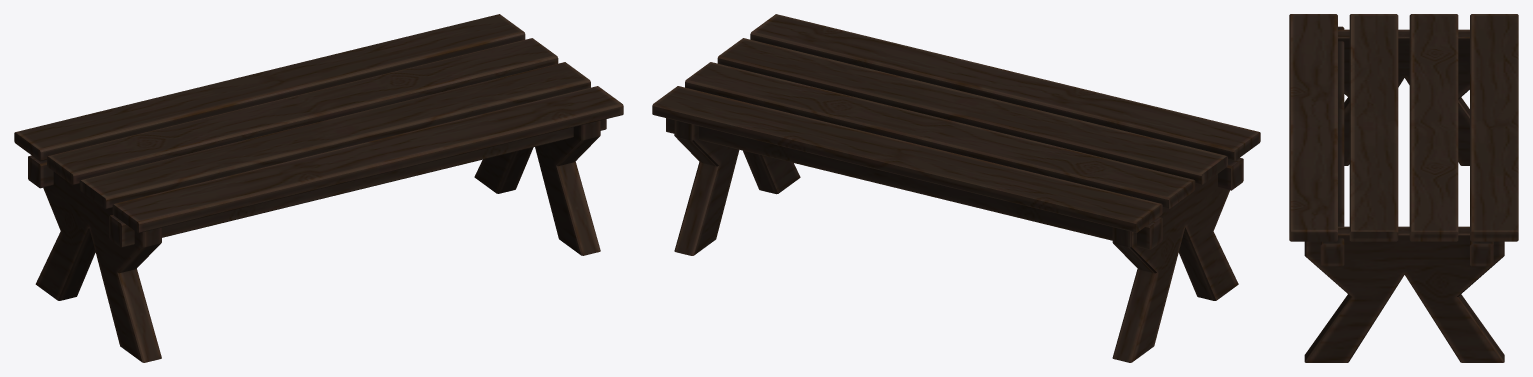
The model's file is Table.FBX.
3 renders of one model, left to right at view 1: azimuth 30°, elevation 25°; view 2: azimuth 150°, elevation 25°; view 3: azimuth 270°, elevation 25°, orthographic. The views are drawn at different scales.
Visible parts, largest first — view 1: Table; view 2: Table; view 3: Table.
Boxes of the visible parts, bbox=[...] form: Table: bbox=[14, 14, 623, 362]; Table: bbox=[652, 14, 1260, 362]; Table: bbox=[1289, 14, 1518, 362].
Size of the model in its own units: 6.05 by 1.78 by 2.7.
